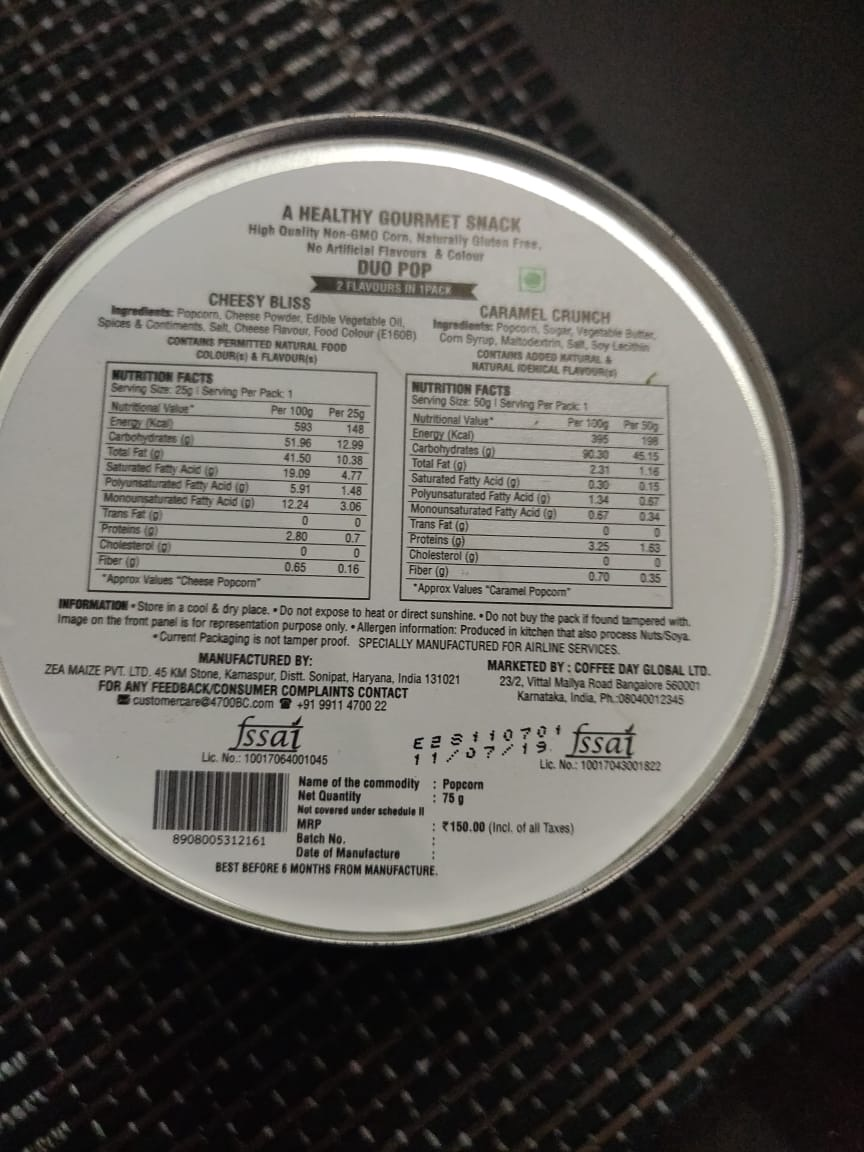barcode: (147, 768, 293, 858)
